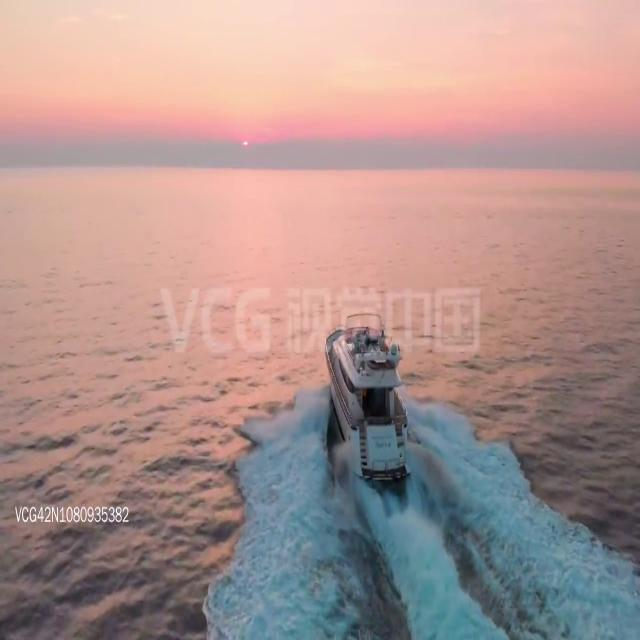houseboat: (324, 303, 412, 483)
